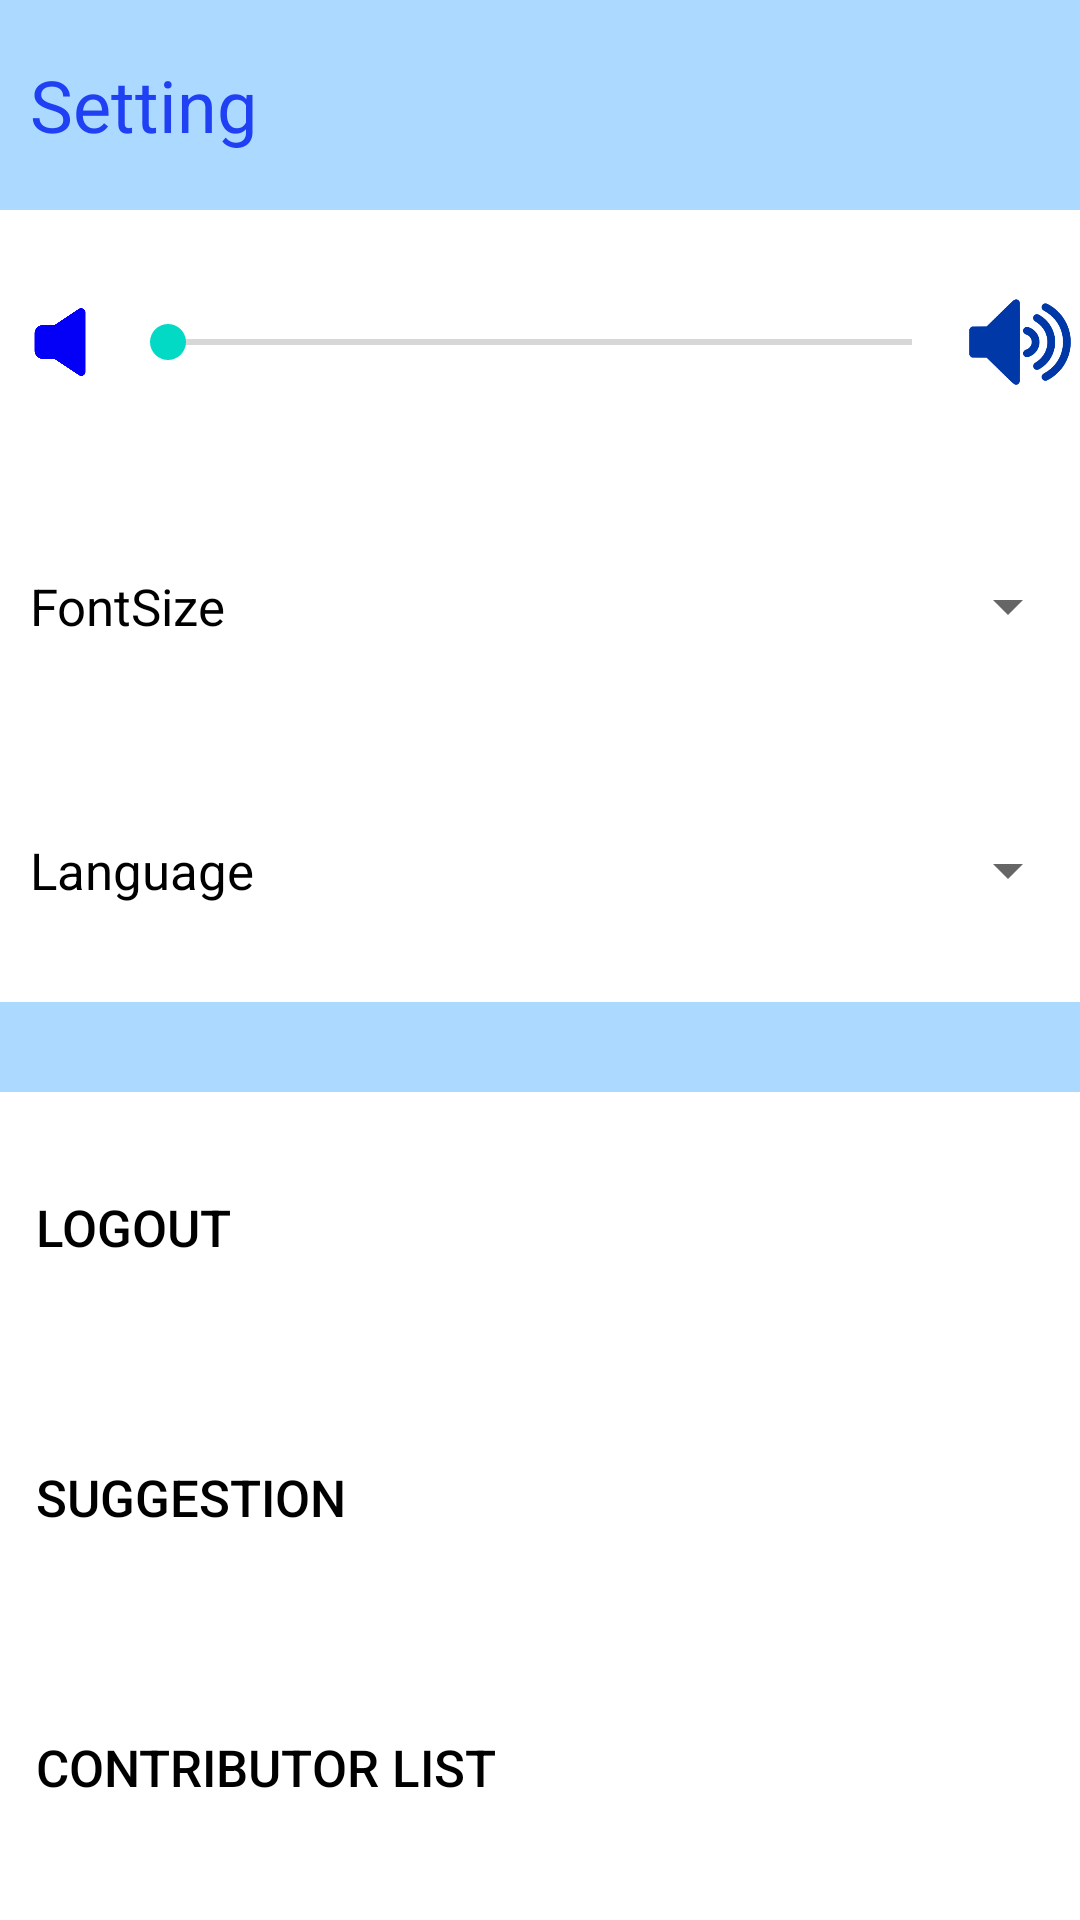

Point at icon controls on the screen. Image size 1080w x 1920h, points as (x,y).
vol max: (1020,342)
